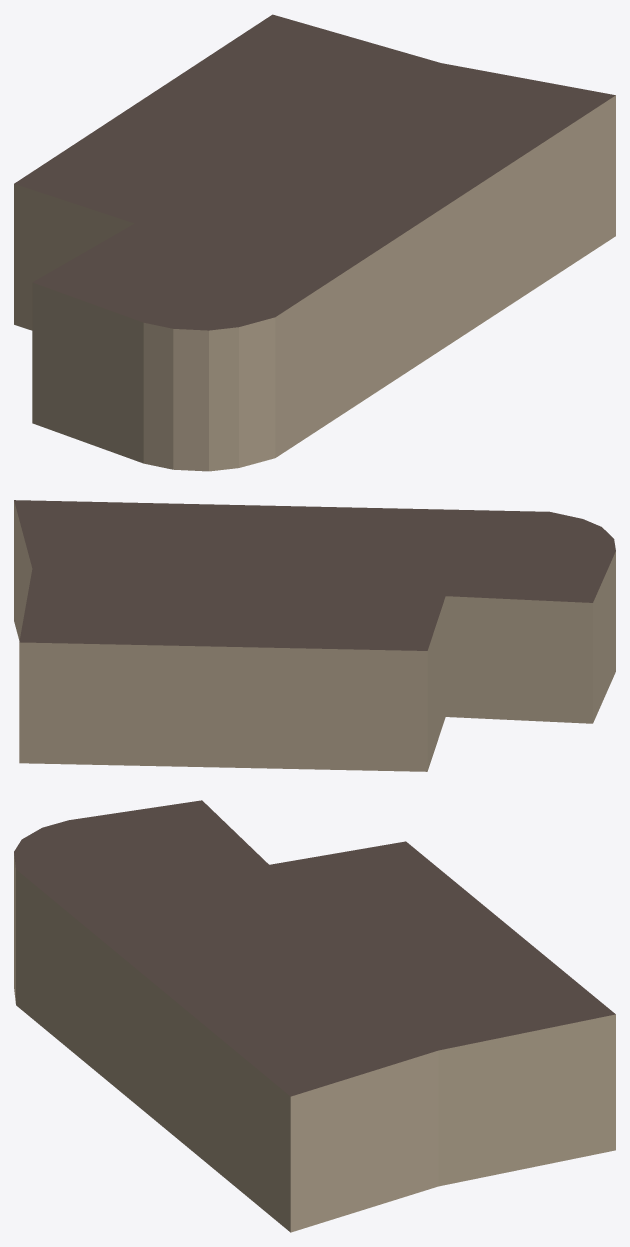
3 views of the same model, one above another, from view 1: azimuth 30°, elevation 25°; view 2: azimuth 150°, elevation 25°; view 3: azimuth 270°, elevation 25° (orthographic). The views are drawn at different scales.
Parts seen in each view (by area): view 1: HP-w1196401624; view 2: HP-w1196401624; view 3: HP-w1196401624.
Part boxes in pixels (left/top/right/bottom): HP-w1196401624: left=14, top=14, right=615, bottom=471; HP-w1196401624: left=14, top=500, right=615, bottom=771; HP-w1196401624: left=14, top=800, right=615, bottom=1232.
Size of the model in its own units: 42.07 by 9 by 36.11.
